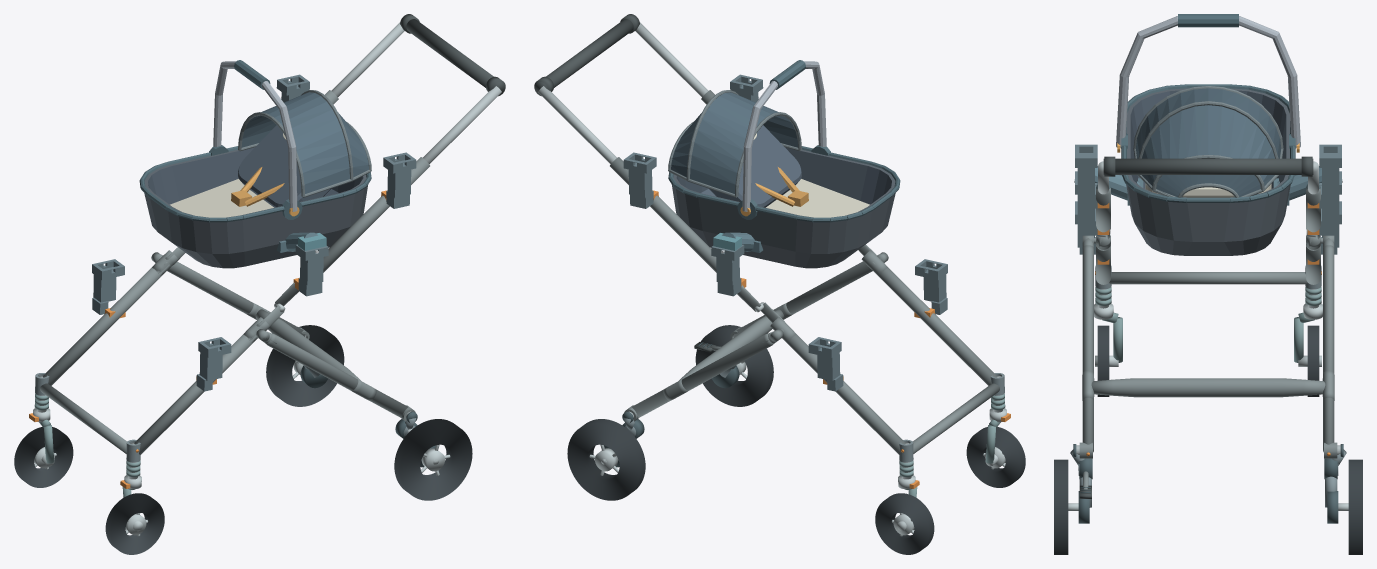
File: S07_w550_state1_wheel_S.glb
The picture shows the model from 3 angles, left to right: view 1: azimuth 30°, elevation 25°; view 2: azimuth 150°, elevation 25°; view 3: azimuth 270°, elevation 25°; orthographic projection. The views are drawn at different scales.
Visible parts, largest first — view 1: S07_Cabin, RL_tire.002, RR_tire.002, FL_tire.002, FR_tire.002, main_lower_1.003, V46_rear_leg_-1.003, main_lower_-1.003, round_handle.002, main_upper_-1.003, Universal_Cabin_Receiver_H_-1, V46_rear_leg_1.003 (+9 smaller); view 2: S07_Cabin, RR_tire.002, RL_tire.002, FR_tire.002, FL_tire.002, main_lower_-1.003, V46_rear_leg_1.003, main_lower_1.003, round_handle.002, main_upper_1.003, Universal_Cabin_Receiver_H_1, V46_rear_leg_-1.003 (+9 smaller); view 3: S07_Cabin, V46_rearbar.003, round_handle.002, front_fixed_round_tube.002, V46_rear_leg_1.003, V46_rear_leg_-1.003, RL_tire.002, RR_tire.002, Universal_Cabin_Receiver_H_1, Universal_Cabin_Receiver_H_-1, S07_Cabin_Mount_M, FL_tire.002 (+10 smaller).
Boxes of the visible parts, x1=… form: S07_Cabin: x1=139, y1=60, x2=371, y2=268; RL_tire.002: x1=394, y1=419, x2=472, y2=500; RR_tire.002: x1=266, y1=325, x2=344, y2=406; FL_tire.002: x1=105, y1=493, x2=164, y2=554; FR_tire.002: x1=14, y1=427, x2=73, y2=487; main_lower_1.003: x1=43, y1=264, x2=169, y2=385; V46_rear_leg_-1.003: x1=265, y1=333, x2=407, y2=417; main_lower_-1.003: x1=134, y1=334, x2=256, y2=455; round_handle.002: x1=406, y1=19, x2=504, y2=94; main_upper_-1.003: x1=323, y1=157, x2=429, y2=272; Universal_Cabin_Receiver_H_-1: x1=383, y1=152, x2=416, y2=208; V46_rear_leg_1.003: x1=167, y1=261, x2=305, y2=336; S07_Cabin: x1=668, y1=60, x2=900, y2=268; RR_tire.002: x1=567, y1=419, x2=645, y2=500; RL_tire.002: x1=695, y1=325, x2=773, y2=406; FR_tire.002: x1=875, y1=493, x2=934, y2=554; FL_tire.002: x1=966, y1=427, x2=1025, y2=487; main_lower_-1.003: x1=870, y1=264, x2=996, y2=385; V46_rear_leg_1.003: x1=632, y1=333, x2=774, y2=417; main_lower_1.003: x1=783, y1=334, x2=905, y2=455; round_handle.002: x1=535, y1=19, x2=633, y2=94; main_upper_1.003: x1=610, y1=157, x2=716, y2=272; Universal_Cabin_Receiver_H_1: x1=623, y1=152, x2=656, y2=208; V46_rear_leg_-1.003: x1=734, y1=261, x2=872, y2=336; S07_Cabin: x1=1116, y1=14, x2=1300, y2=255; V46_rearbar.003: x1=1091, y1=378, x2=1325, y2=397; round_handle.002: x1=1103, y1=158, x2=1313, y2=174; front_fixed_round_tube.002: x1=1109, y1=272, x2=1307, y2=284; V46_rear_leg_1.003: x1=1323, y1=245, x2=1334, y2=452; V46_rear_leg_-1.003: x1=1082, y1=245, x2=1093, y2=452; RL_tire.002: x1=1054, y1=459, x2=1068, y2=554; RR_tire.002: x1=1348, y1=459, x2=1362, y2=554; Universal_Cabin_Receiver_H_1: x1=1319, y1=144, x2=1341, y2=208; Universal_Cabin_Receiver_H_-1: x1=1075, y1=144, x2=1097, y2=208; S07_Cabin_Mount_M: x1=1074, y1=166, x2=1342, y2=205; FL_tire.002: x1=1097, y1=325, x2=1109, y2=396.
Size of the model in its own units: 1.11 by 1.09 by 0.6471.
